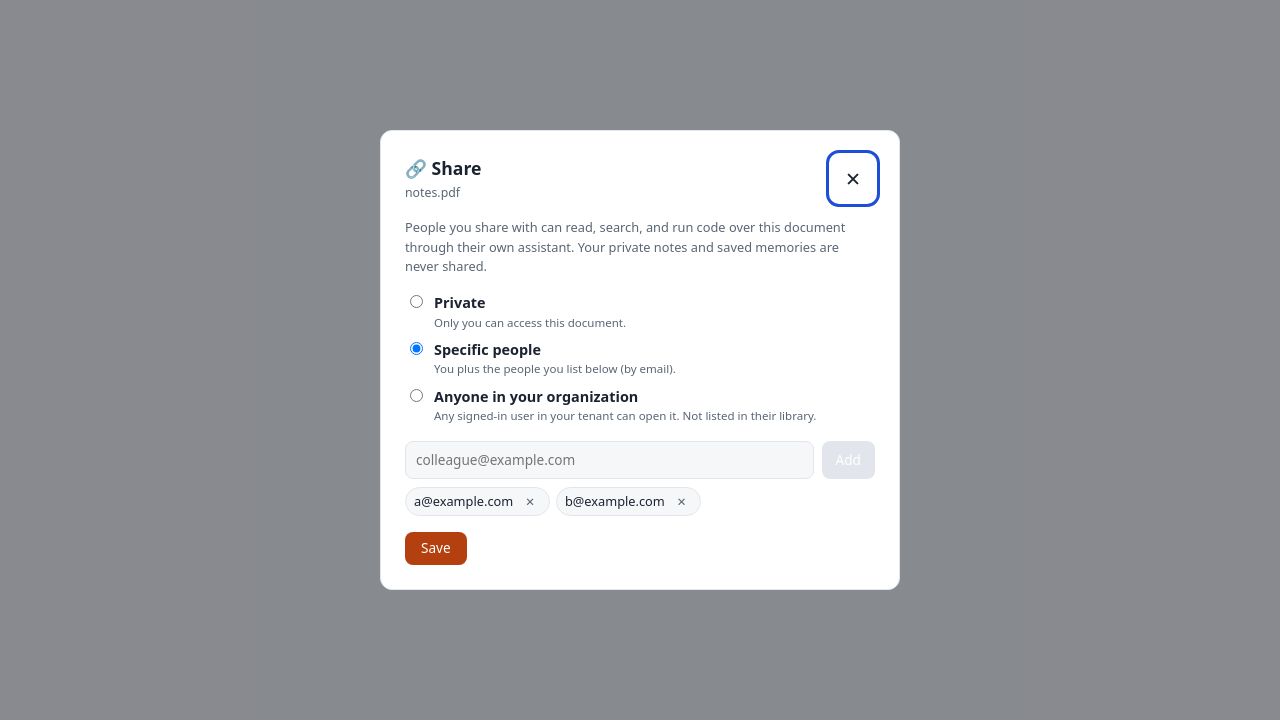
Test: SharePanel › warns that switching to private and saving will remove current grantees' access
The width and height of the screenshot is (1280, 720).
Click the radio button labelled "Private Only you can access this document.".
click(416, 301)  # box [410,295,423,308]
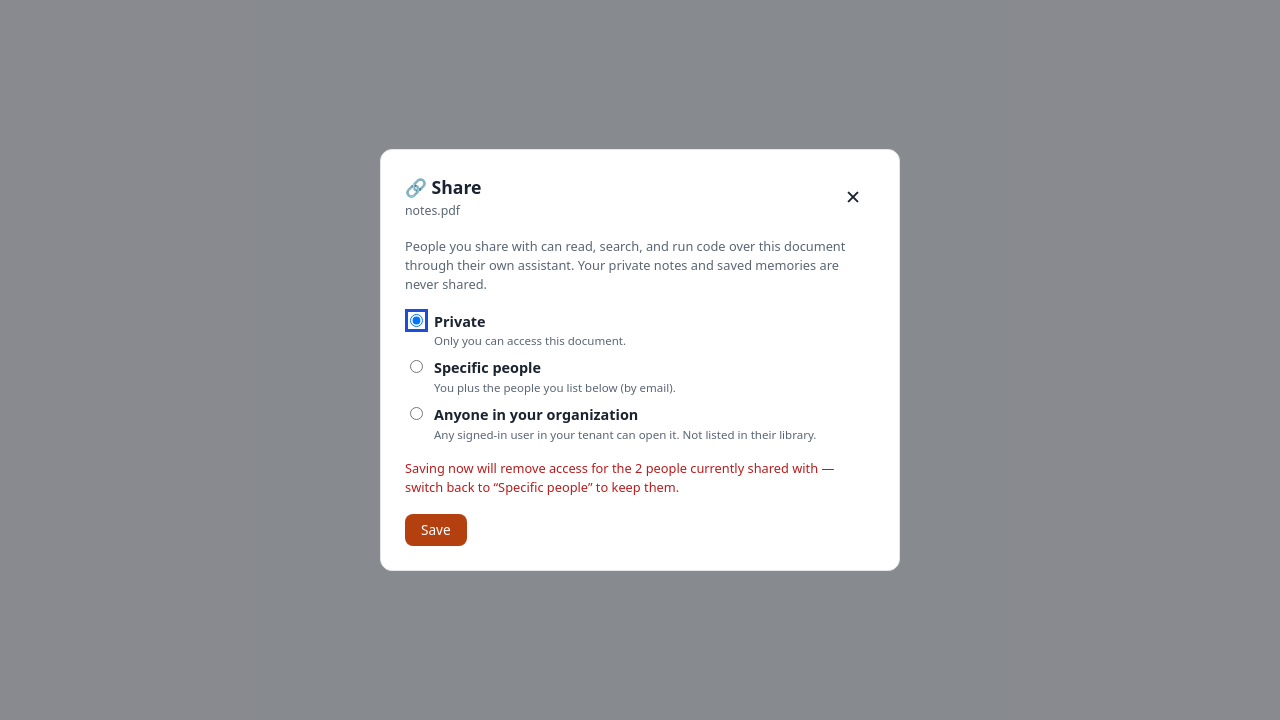
Now the message shows "remove access", box [405,459,635,477]
